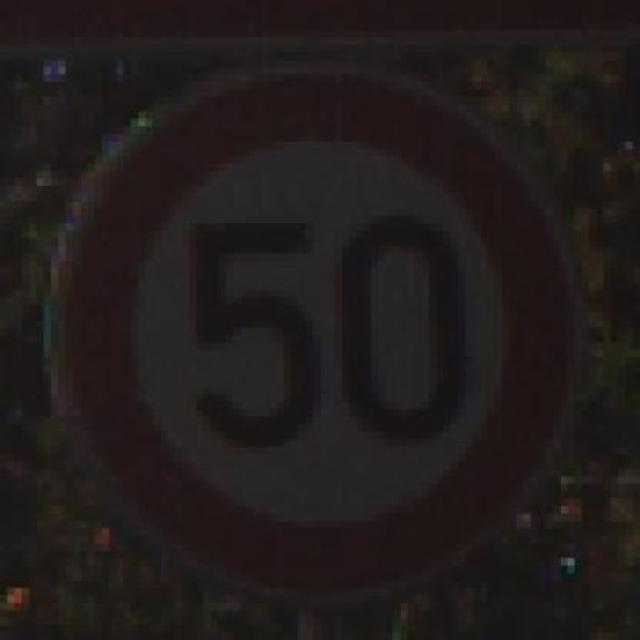forb_speed_over_50: (56, 72, 573, 594)
